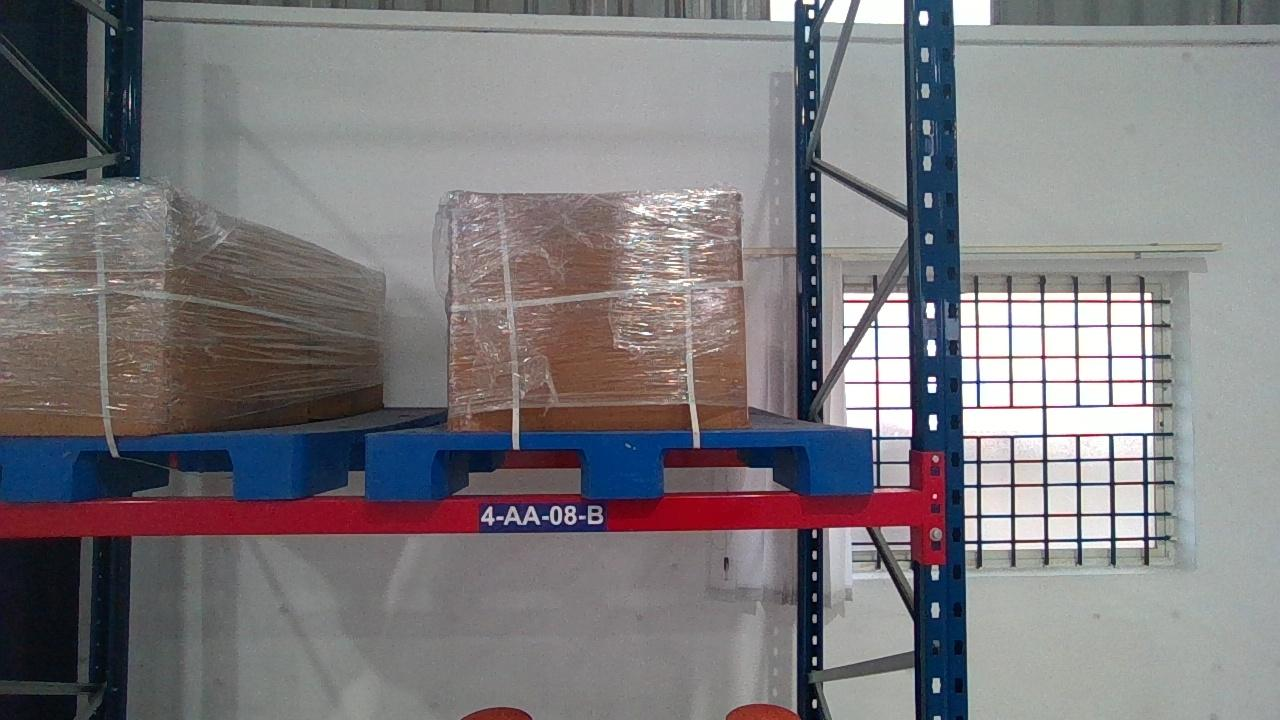h_rack: (2, 494, 922, 533)
small_pallet: (364, 429, 876, 495), (3, 430, 297, 504)
